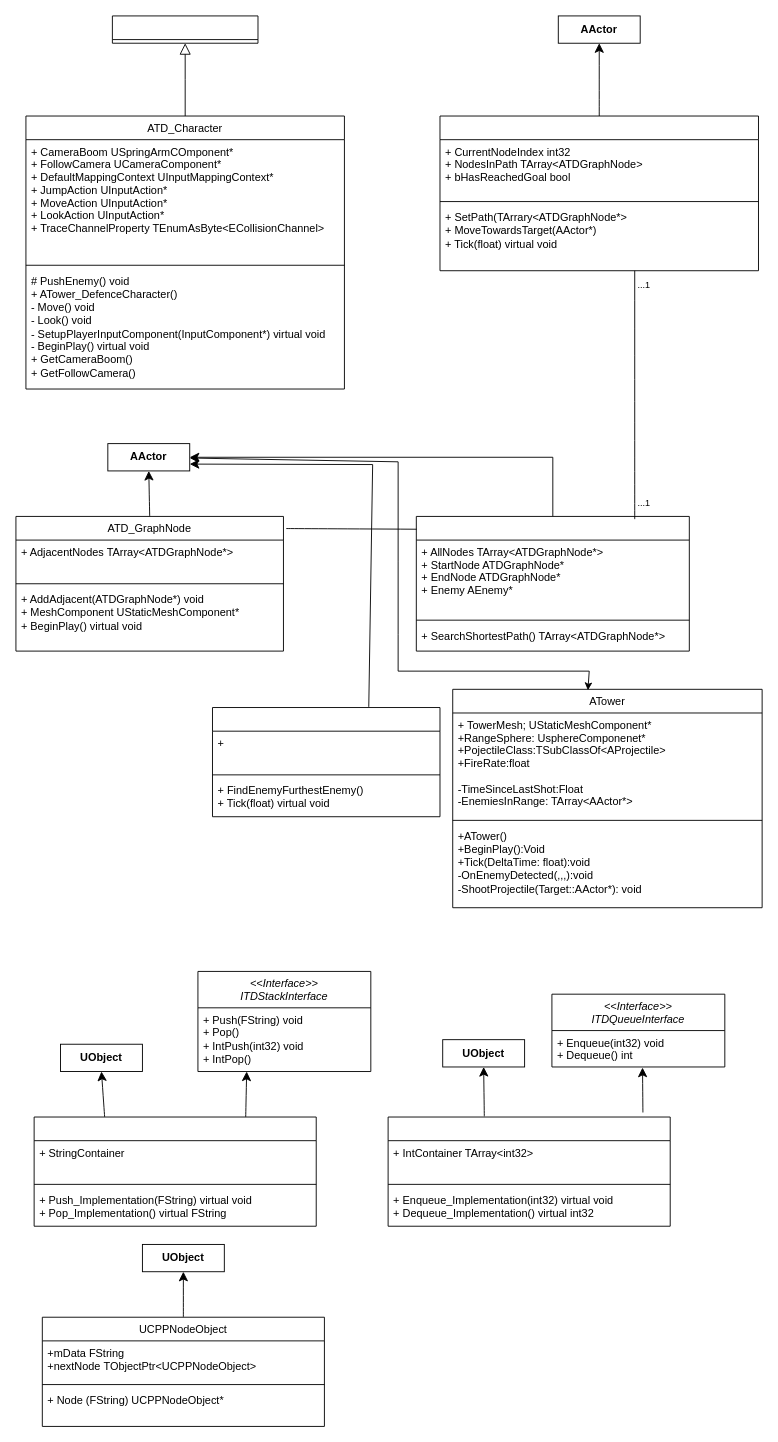
Some shapes in this 778 by 1442 pixel diagram are drawn without their labels. The shapes that lost their labels are listed below. From the top down, each one's box as (x1, y1, x2, y2) in pixels, then its label:
(111, 15, 258, 43): ACharacter
(439, 115, 758, 271): AEnemy
(415, 516, 689, 651): ATD_GraphManager
(212, 707, 440, 817): ATD_Tower
(33, 1116, 316, 1226): UTDStack
(387, 1116, 670, 1226): UTDQueue
